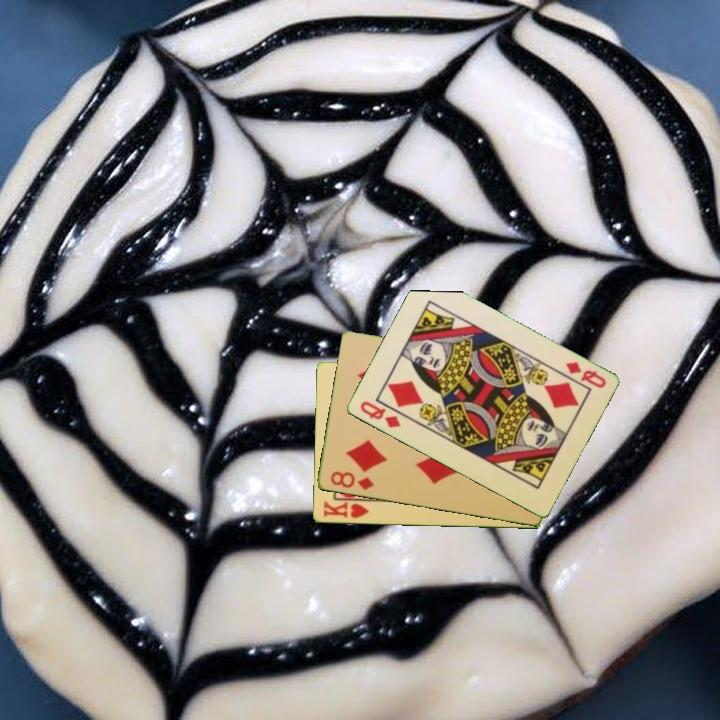8d: (326, 468, 377, 493)
Kh: (320, 497, 375, 521)
Qd: (356, 397, 403, 431), (561, 358, 609, 391)
